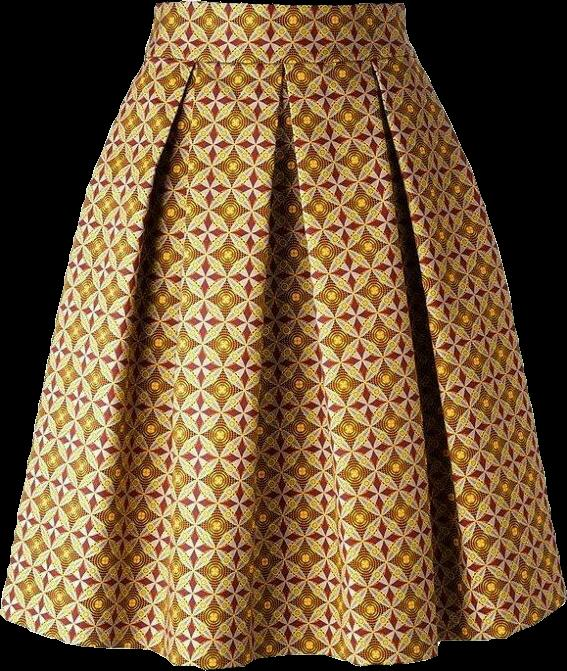Hemline: (0, 601, 566, 670)
Waistline: (142, 52, 418, 70), (152, 0, 404, 11)
